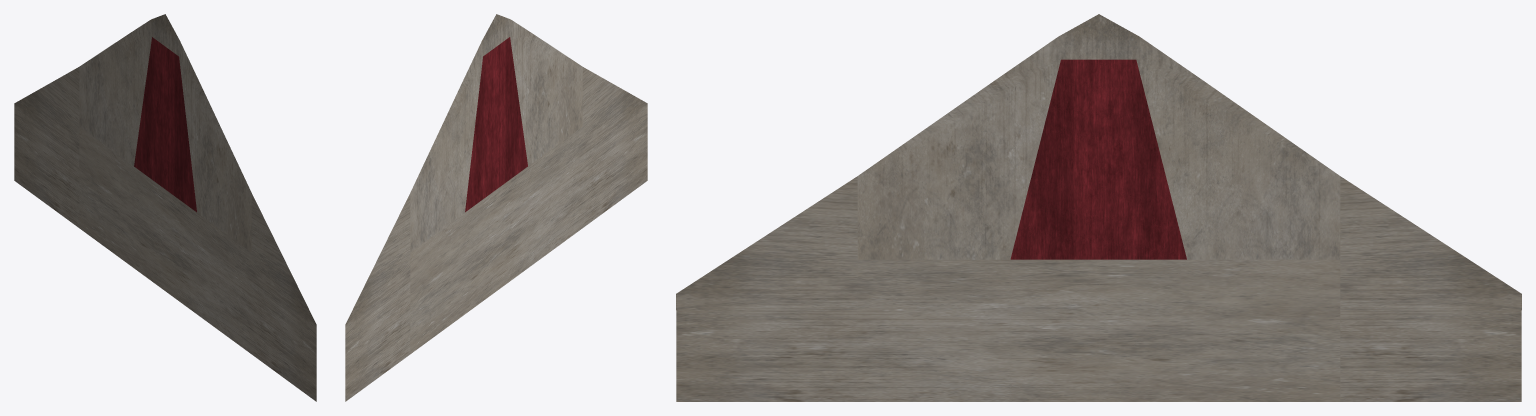
Rendered from SM_R_MiddleBeam_10.fbx.
3 views of the same model, side by side, from view 1: azimuth 30°, elevation 25°; view 2: azimuth 150°, elevation 25°; view 3: azimuth 270°, elevation 25° (orthographic). The views are drawn at different scales.
Parts seen in each view (by area): view 1: SM_R_MiddleBeam_10; view 2: SM_R_MiddleBeam_10; view 3: SM_R_MiddleBeam_10.
Boxes of the visible parts, x1,y1,x2,y2 form: SM_R_MiddleBeam_10: (14,14,316,401); SM_R_MiddleBeam_10: (345,14,647,401); SM_R_MiddleBeam_10: (676,14,1521,401).
Size of the model in its own units: 0.000252 by 411 by 208.
Materials: 2 (2 with a texture image).
